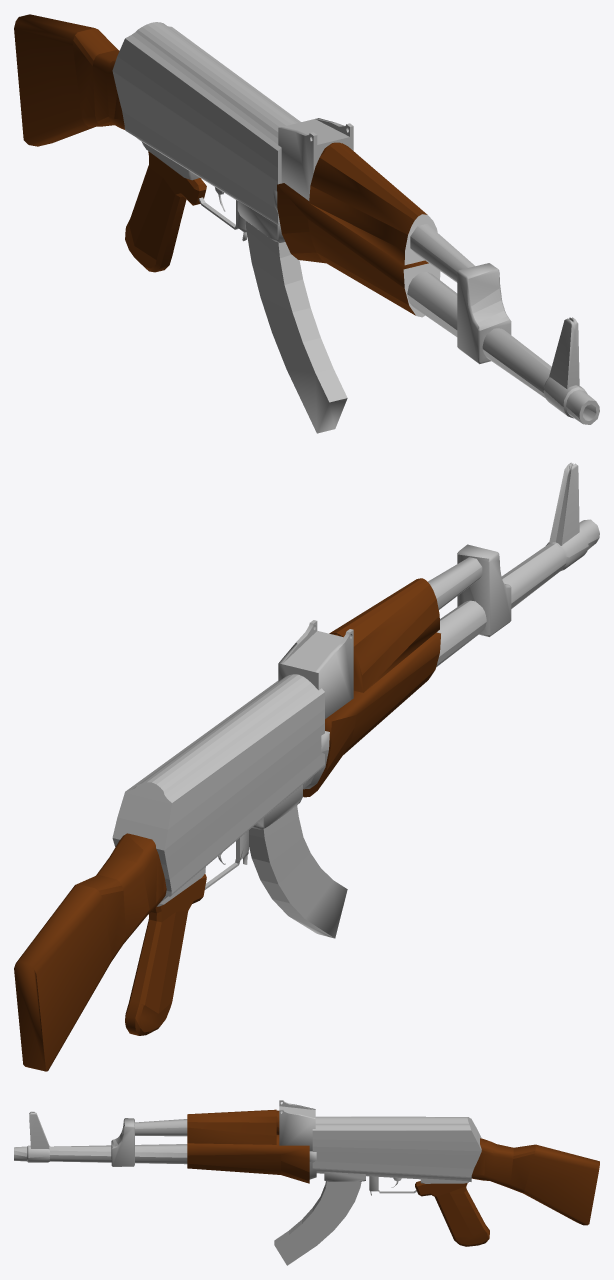
The model's file is ak47prop.glb.
The picture shows the model from 3 angles, top to bottom: view 1: azimuth 30°, elevation 25°; view 2: azimuth 150°, elevation 25°; view 3: azimuth 270°, elevation 25°; orthographic projection. The views are drawn at different scales.
Visible parts, largest first — view 1: Cube.001; view 2: Cube.001; view 3: Cube.001.
Boxes of the visible parts, <box> form: Cube.001: <box>14,14,599,433</box>; Cube.001: <box>14,462,599,1071</box>; Cube.001: <box>14,1100,599,1265</box>.
Size of the model in its own units: 0.6082 by 3.26 by 10.91.
